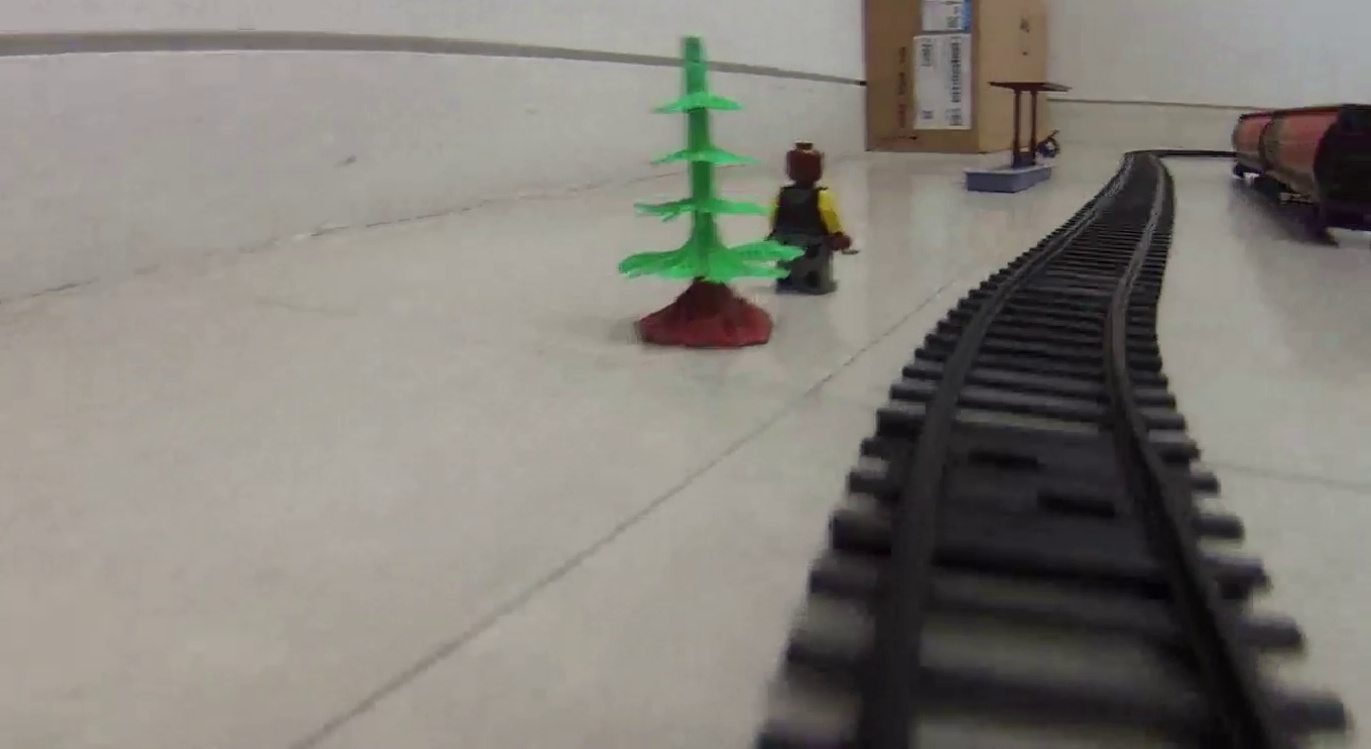people: (768, 139, 848, 298)
tree: (616, 37, 779, 347)
